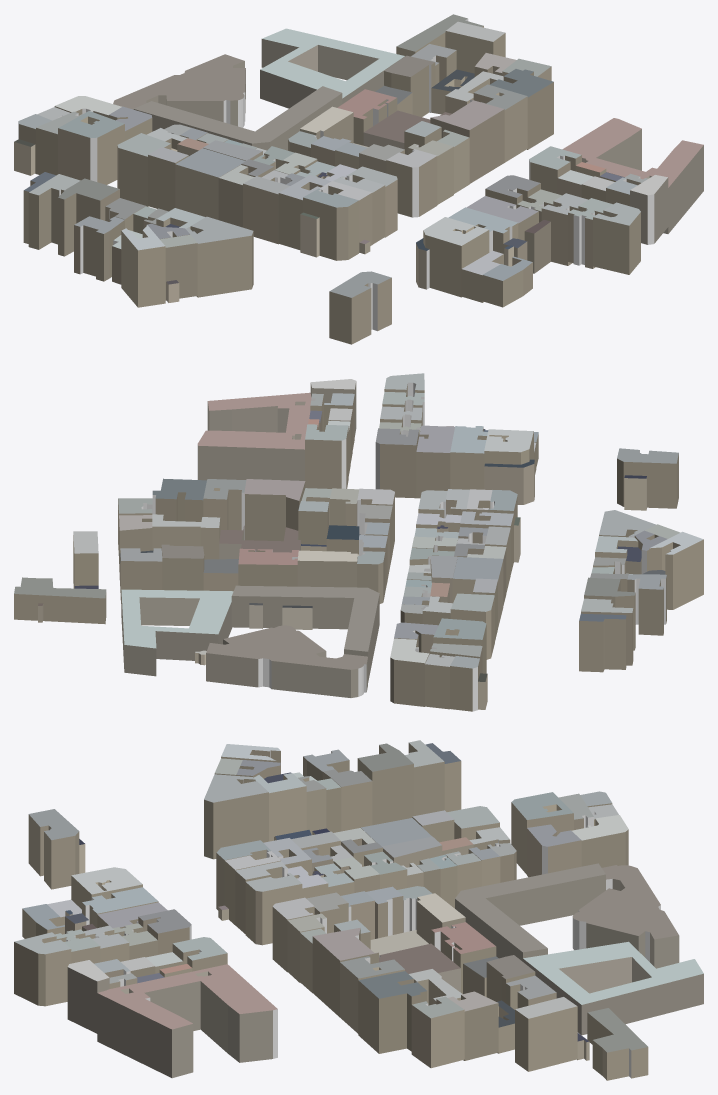
3 views of the same model, one above another, from view 1: azimuth 30°, elevation 25°; view 2: azimuth 150°, elevation 25°; view 3: azimuth 270°, elevation 25° (orthographic). The views are drawn at different scales.
Visible parts, largest first — view 1: tuile; view 2: tuile; view 3: tuile.
Part boxes in pixels (x1,y1,x2,y2): tuile: [14, 14, 703, 344]; tuile: [14, 373, 703, 711]; tuile: [14, 740, 703, 1080].
Bounding box in the file's own units: 280 × 33.27 × 284.
